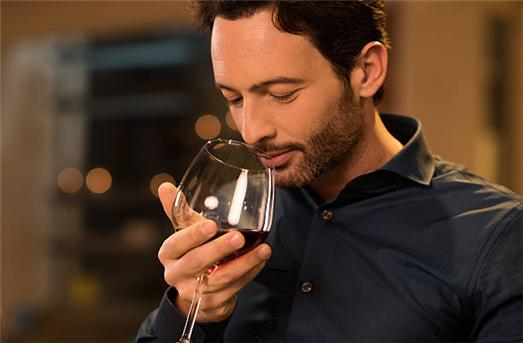alcohol: (170, 137, 277, 341)
